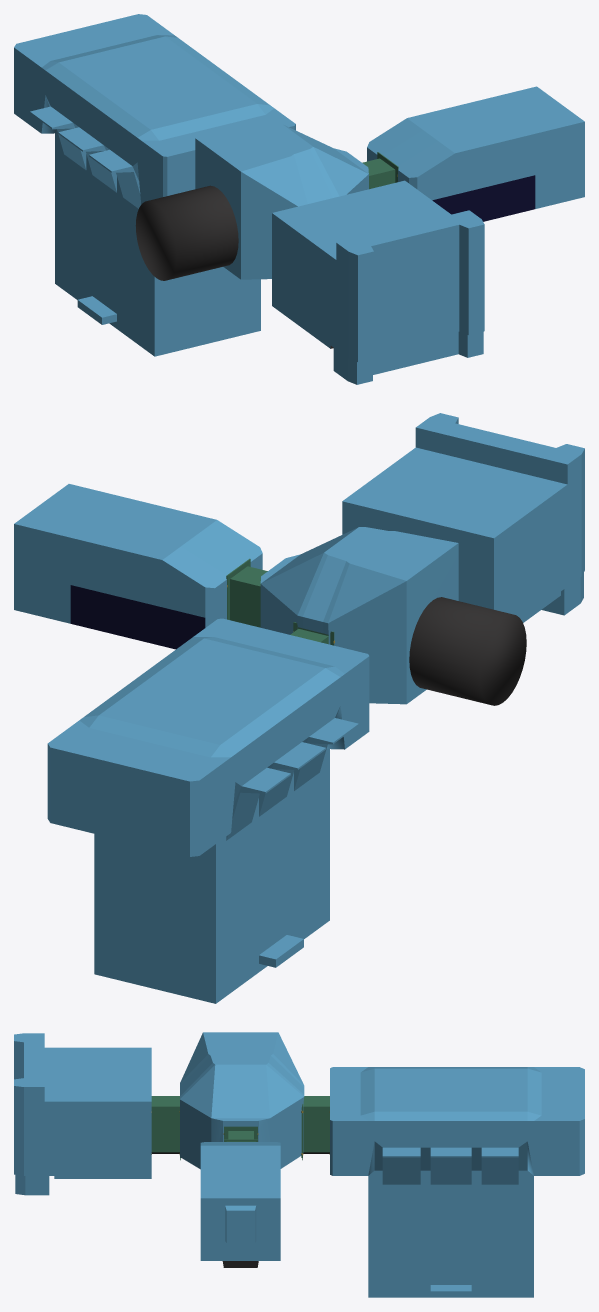
The model's file is level_base.fbx.
3 views of the same model, one above another, from view 1: azimuth 30°, elevation 25°; view 2: azimuth 150°, elevation 25°; view 3: azimuth 270°, elevation 25° (orthographic). The views are drawn at different scales.
Visible parts, largest first — view 1: base_rooms, hall.003; view 2: base_rooms, hall.003; view 3: base_rooms, hall.001, hall.002.
Boxes of the visible parts, box(x1,y1,x2,y2) form: base_rooms: box(14, 14, 584, 384); hall.003: box(362, 158, 395, 189); base_rooms: box(14, 413, 584, 1003); hall.003: box(230, 566, 267, 627); base_rooms: box(14, 1032, 584, 1297); hall.001: box(151, 1096, 179, 1153); hall.002: box(303, 1096, 329, 1153).
Bounding box in the file's own units: 3108 × 1876 × 4479.
